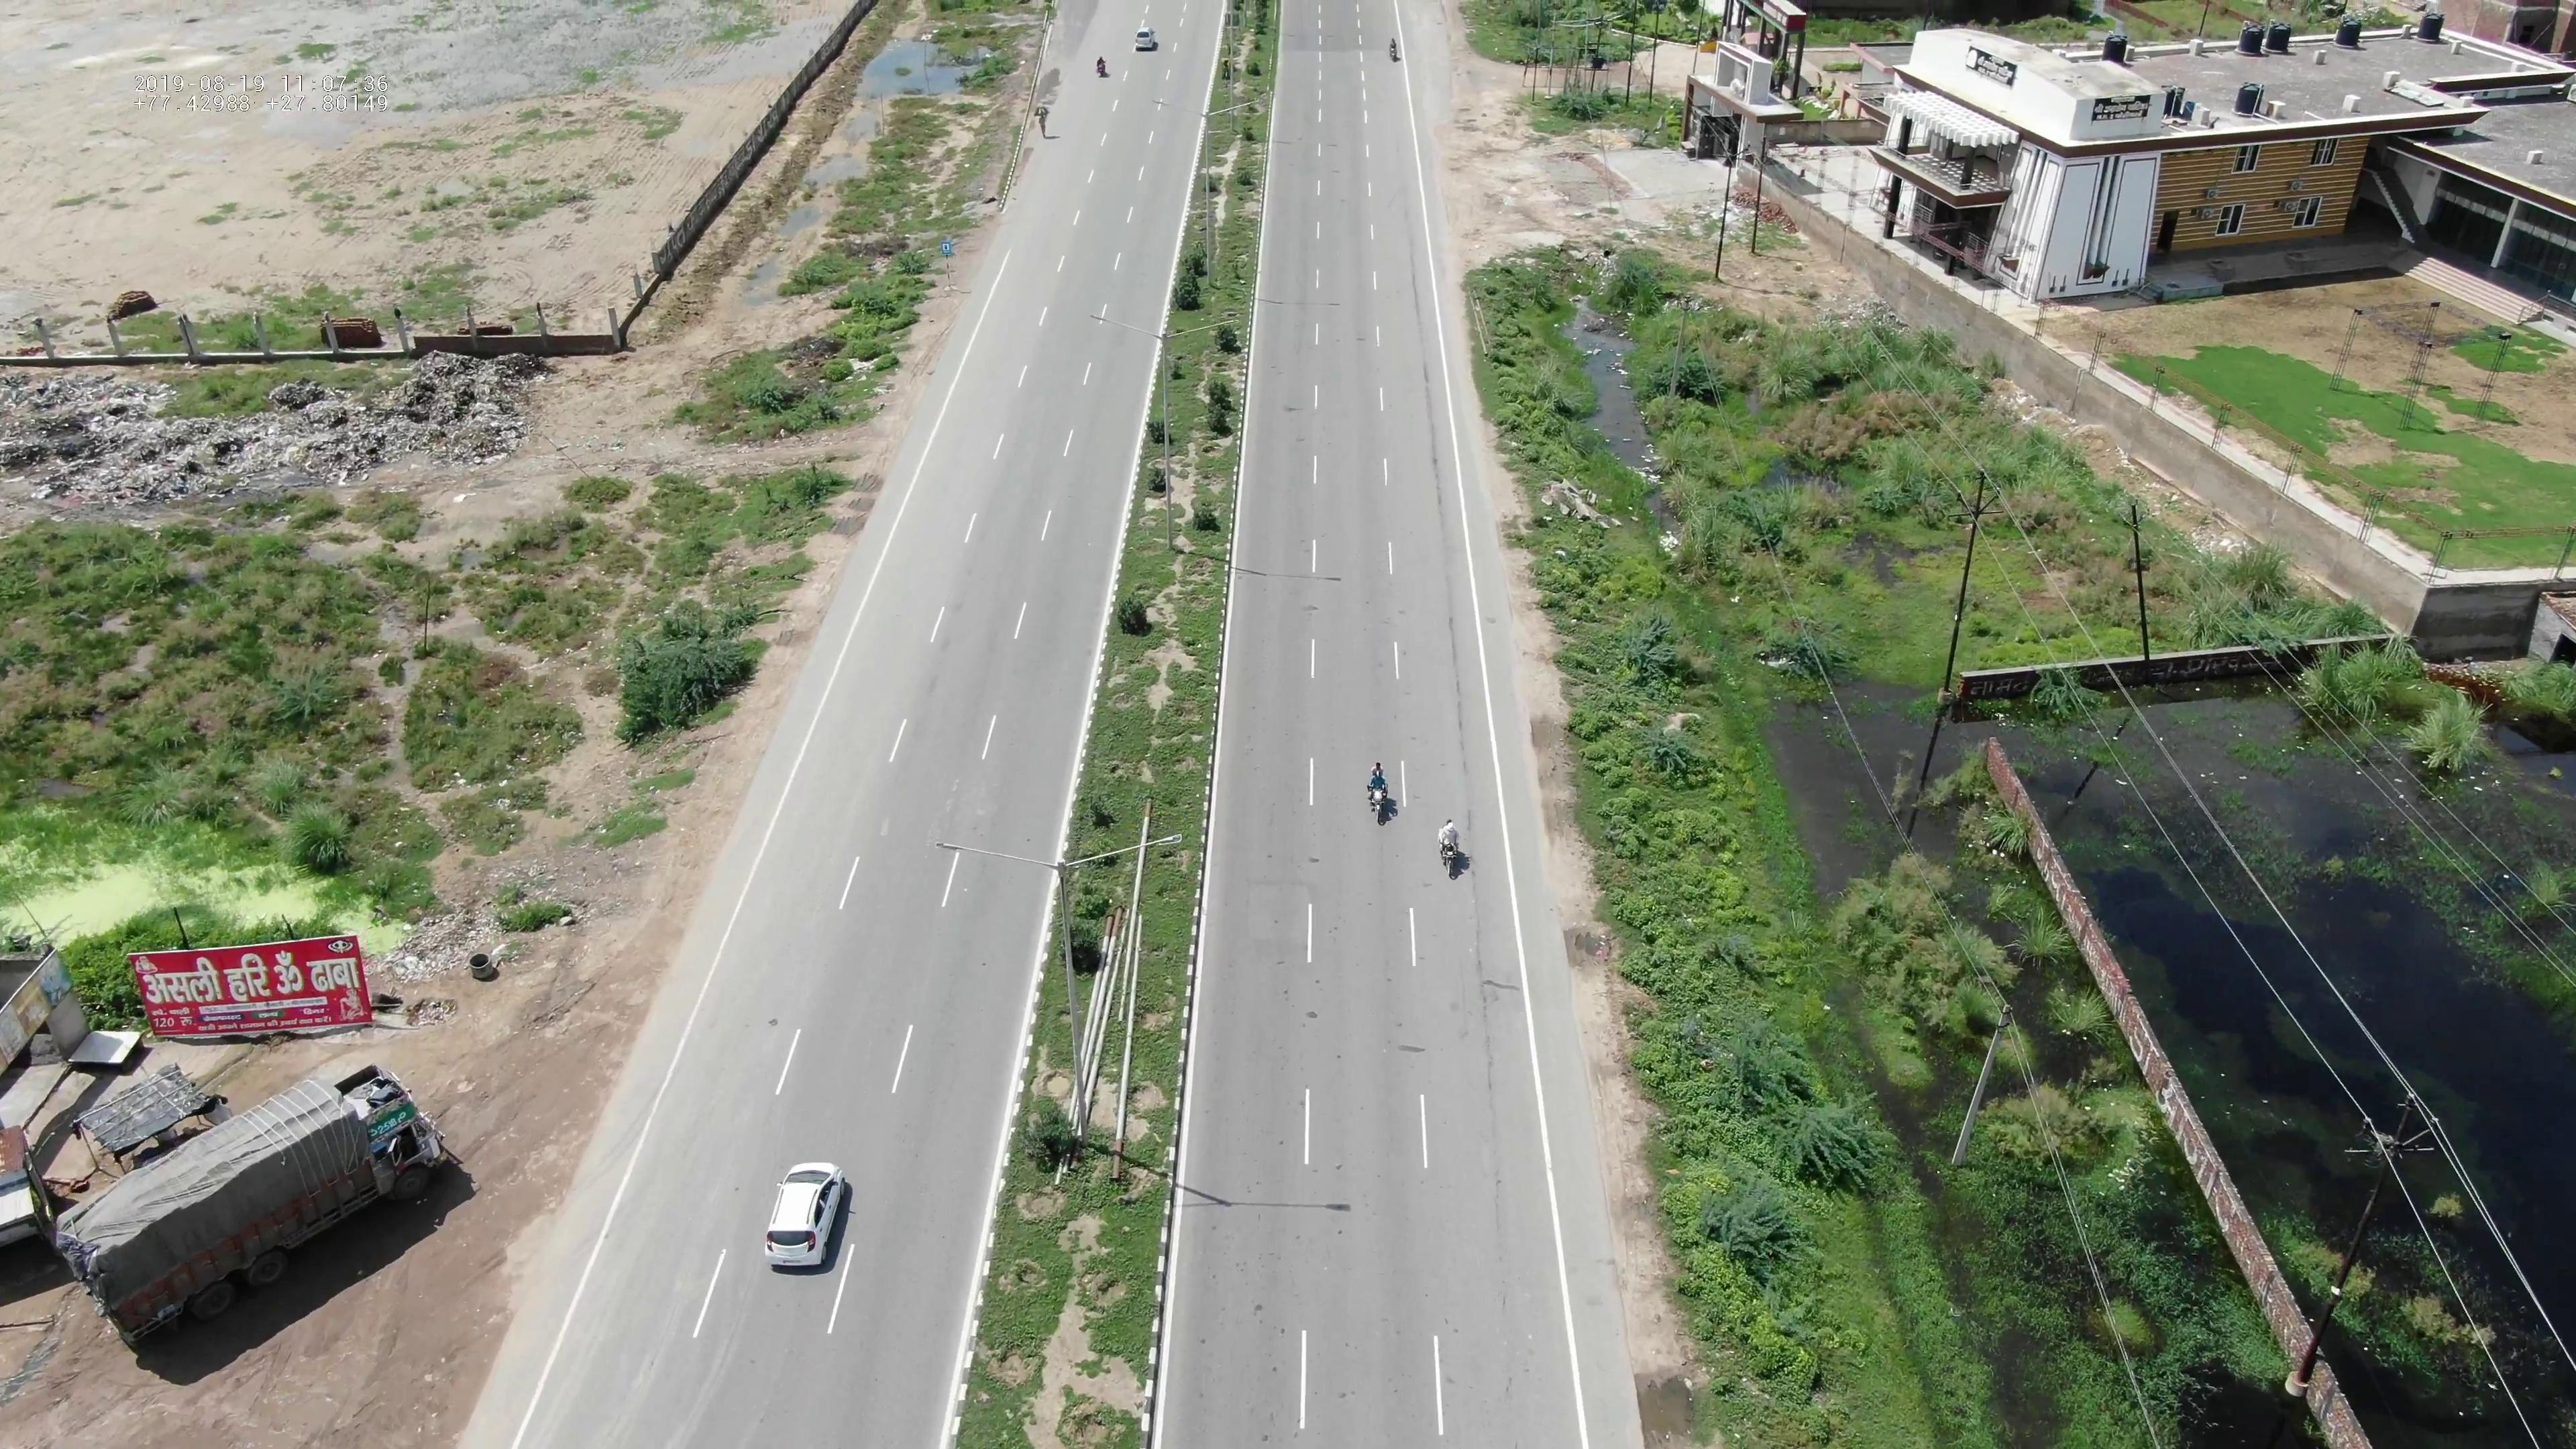Longitudinal_cracks: (1444, 550, 1479, 805), (1410, 274, 1444, 502)
